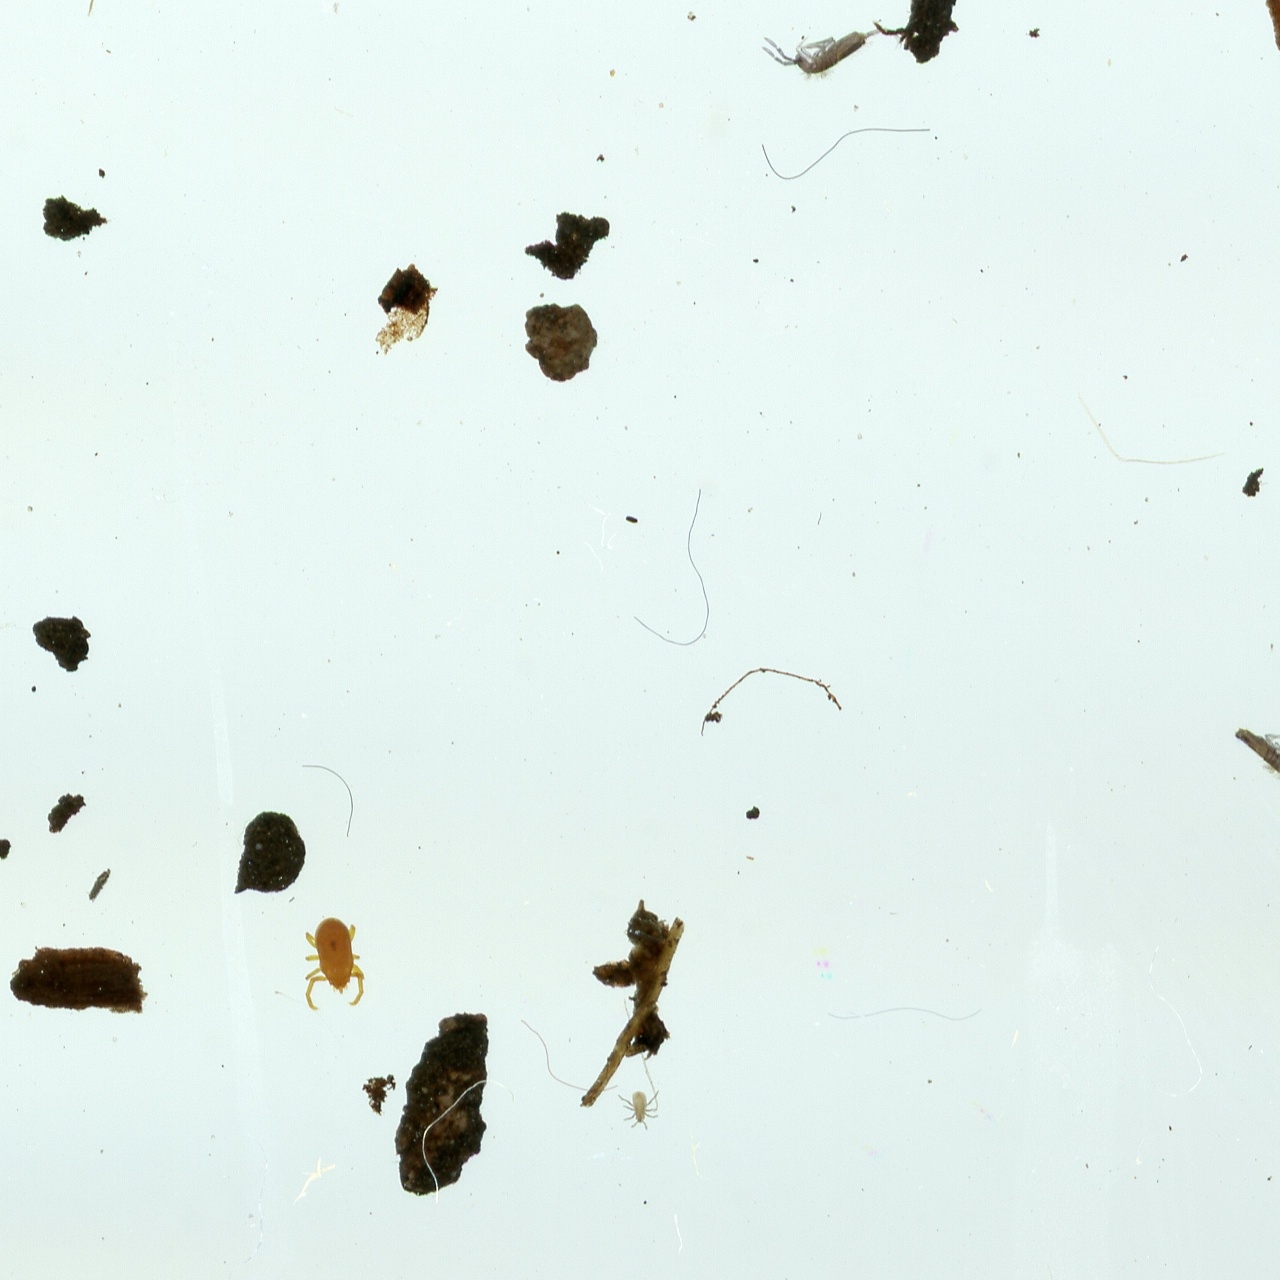arthropod: (1194, 679, 1280, 822), (753, 23, 900, 87), (299, 911, 368, 1015), (616, 1088, 662, 1131)
